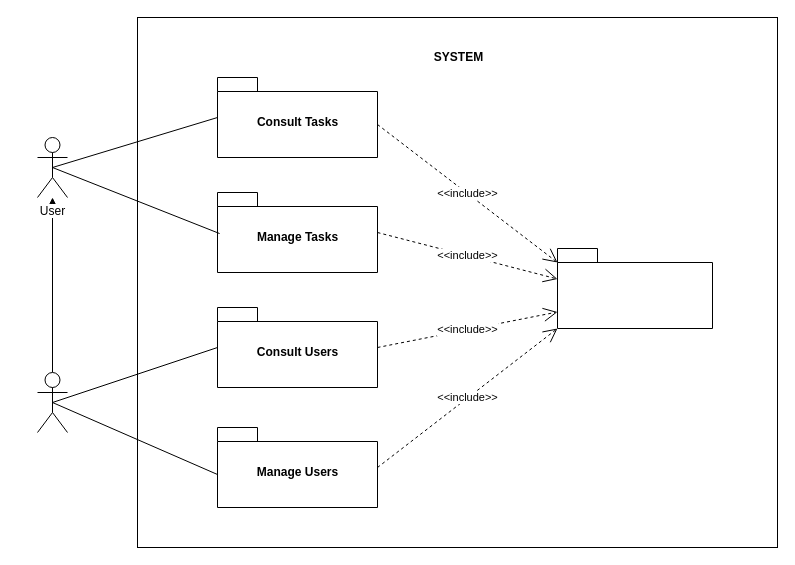
Image size: 795x565. Some labels were removed from this diagram. Here are the shapes that lost their labels. From the top down, the centre of each, then its label:
At point 634,288: "Authentification".
At point 52,402: "Administrator".
